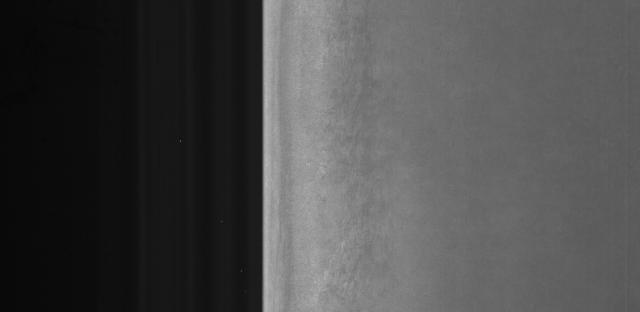silk_spot: (316, 54, 409, 299)
